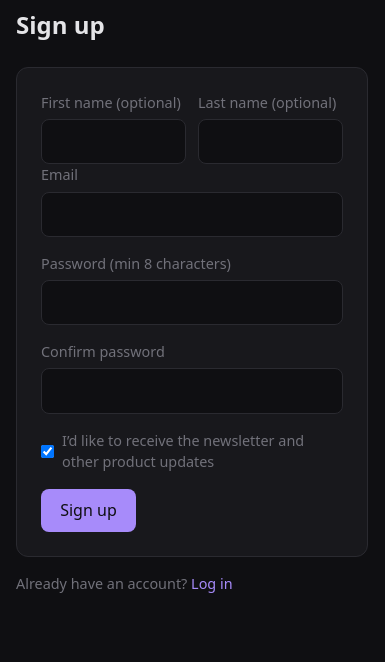
Scenario: Signup page – error messages › API returns string error › shows 'Email already registered' when API returns that error
Type "a@b.co" into the field labelled "Email" at (192, 214), box [41,192,343,237]
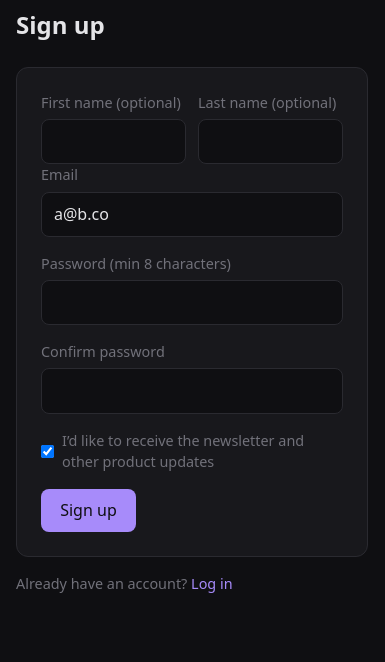
Type "password123" into the password field labelled "Password (min 8 characters)" at (192, 303), box [41,280,343,325]
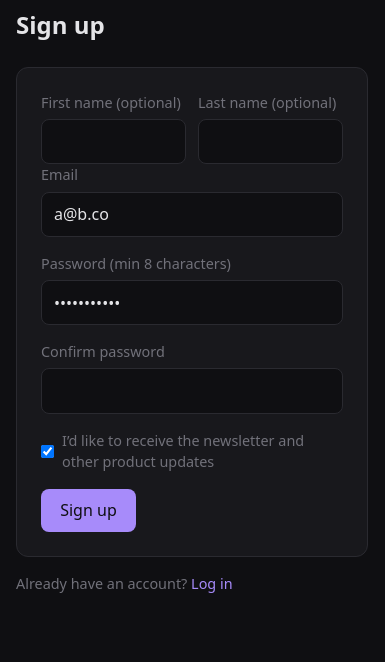
Type "password123" into the password field labelled "Confirm password" at (192, 391), box [41,368,343,414]
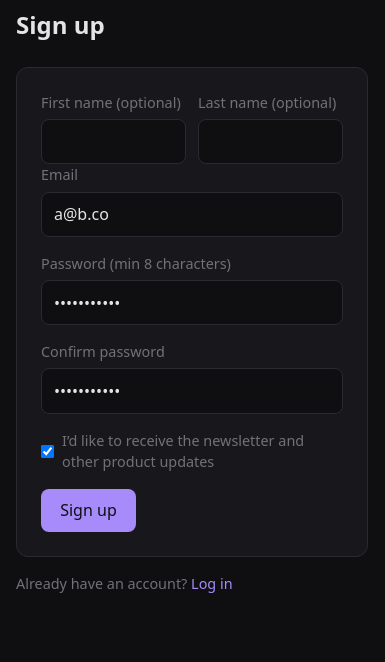
Click the button "Sign up" at (88, 510), box [41,489,136,532]
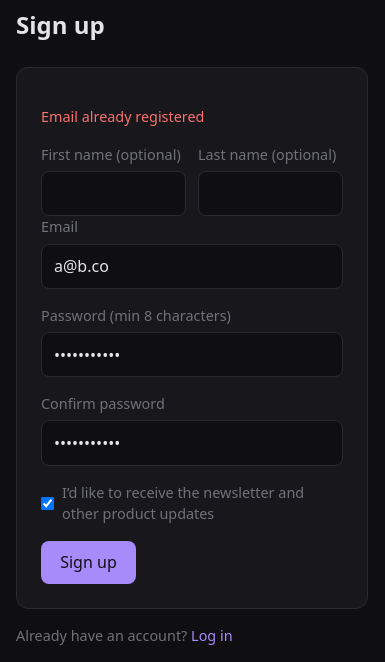
Now the text "Email already registered" is shown, box [41,108,204,126]
